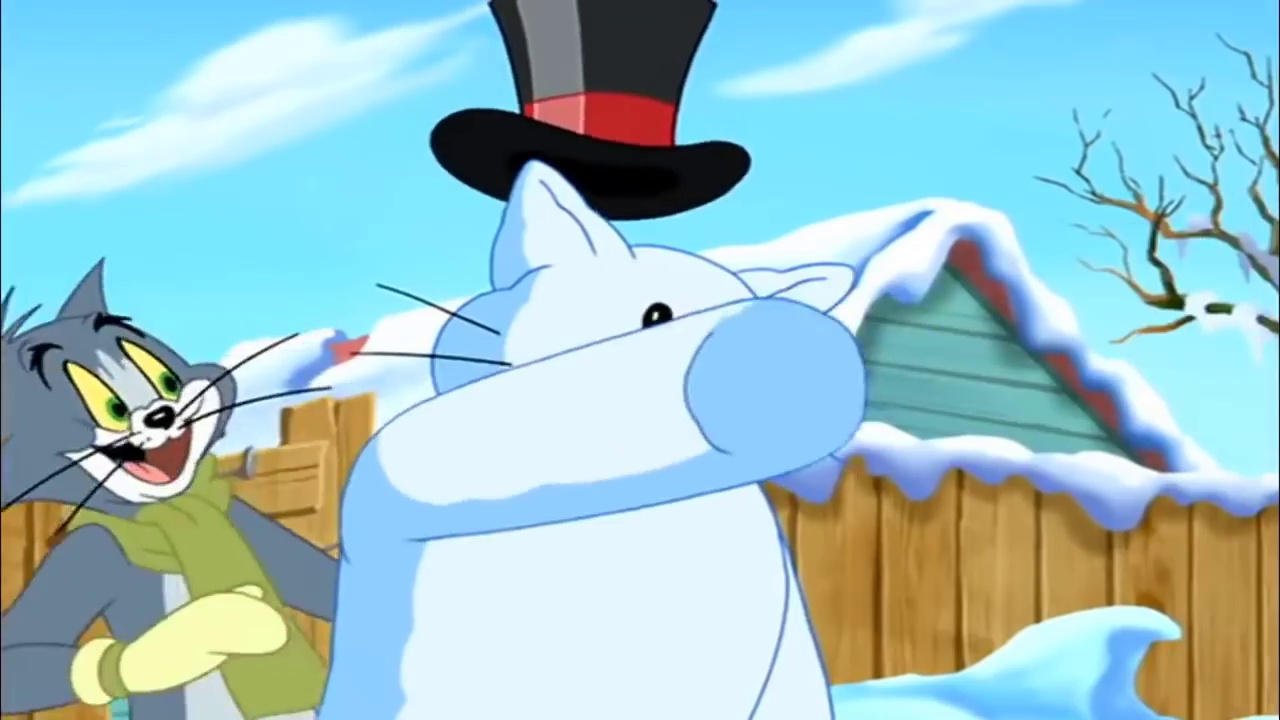face: (27, 315, 221, 504)
